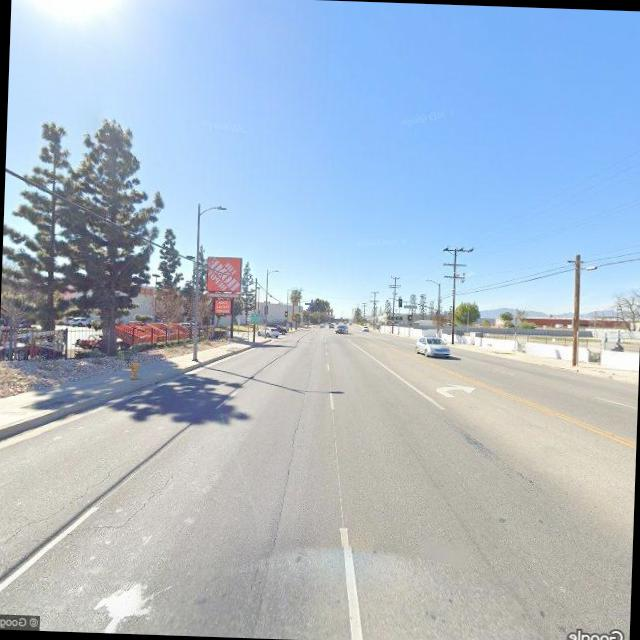pothole: (0, 453, 131, 550), (68, 473, 178, 544)
